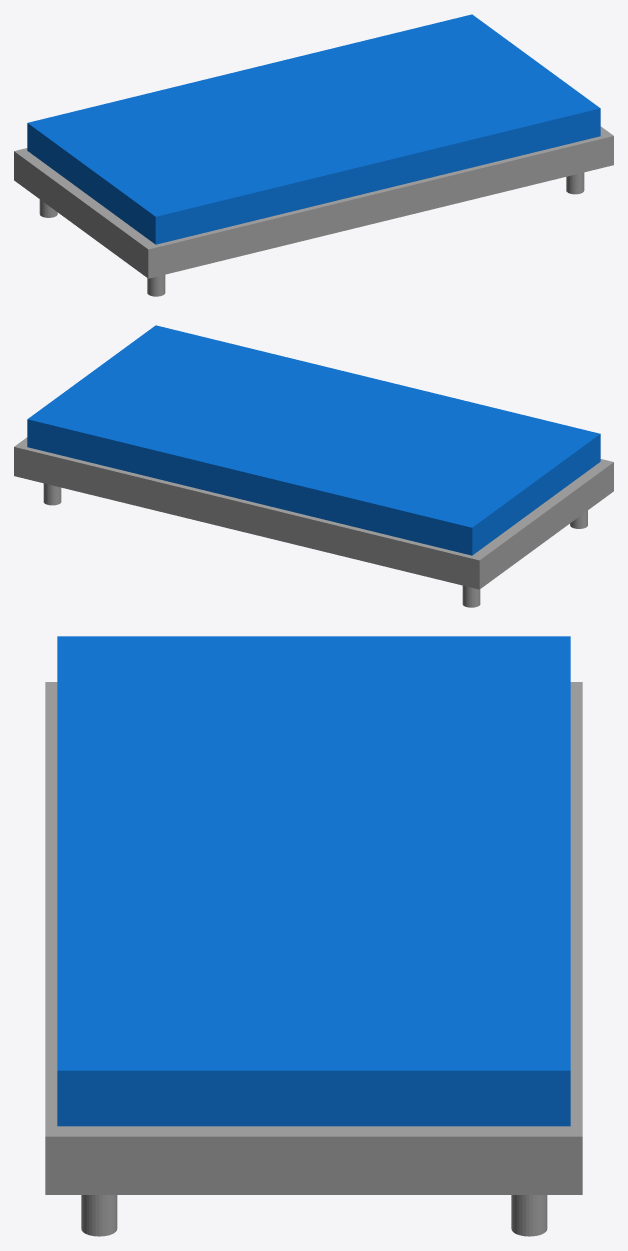
File: bed.fbx
3 renders of one model, top to bottom at view 1: azimuth 30°, elevation 25°; view 2: azimuth 150°, elevation 25°; view 3: azimuth 270°, elevation 25°, orthographic. The views are drawn at different scales.
Parts seen in each view (by area): view 1: Plane.008; view 2: Plane.008; view 3: Plane.008.
Part boxes in pixels (box(x1,y1,x2,y2)): Plane.008: box(14, 14, 613, 296); Plane.008: box(14, 325, 613, 607); Plane.008: box(45, 636, 582, 1236).
Size of the model in its own units: 200 by 35.46 by 100.
